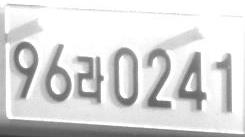0: (112, 47, 138, 106)
1: (212, 52, 240, 112)
2: (146, 48, 171, 108)
4: (177, 51, 206, 110)
6: (44, 43, 72, 101)
9: (13, 40, 38, 98)
라: (76, 55, 103, 103)
